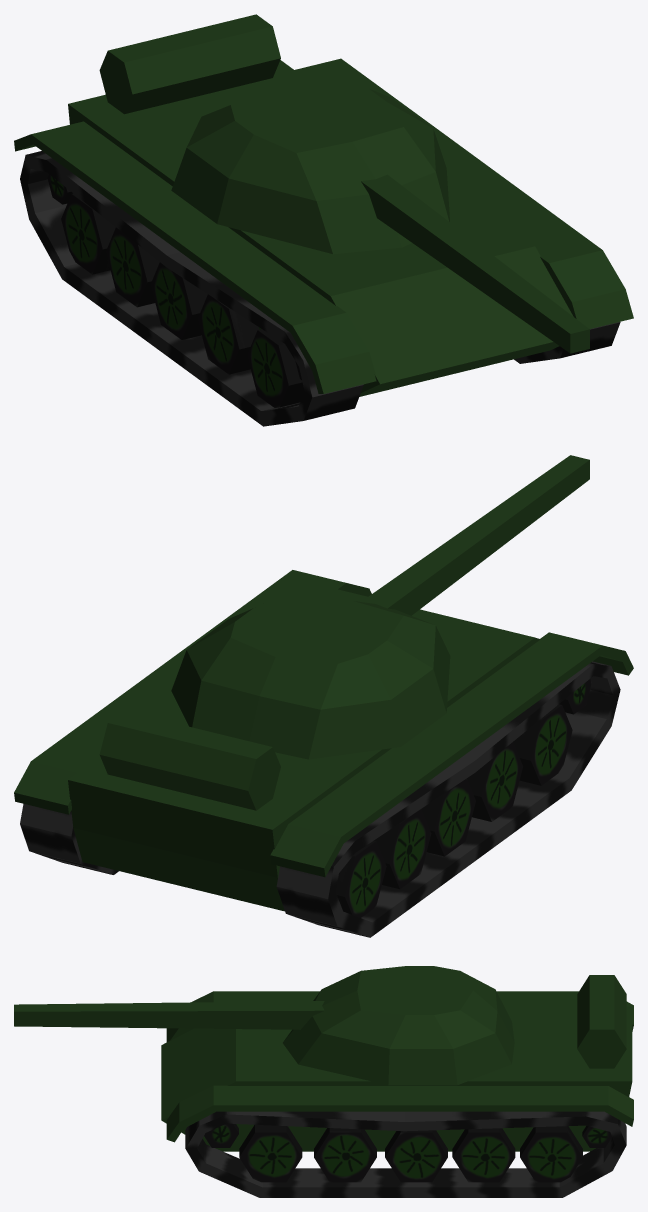
3 renders of one model, top to bottom at view 1: azimuth 30°, elevation 25°; view 2: azimuth 150°, elevation 25°; view 3: azimuth 270°, elevation 25°, orthographic. The views are drawn at different scales.
Visible parts, largest first — view 1: body, canon, chain; view 2: body, canon, chain; view 3: body, chain, canon.
Boxes of the visible parts, x1,y1,x2,y2 form: body: (14,14,633,396); canon: (171,78,589,353); chain: (20,151,620,426); body: (14,570,633,911); canon: (171,455,589,759); chain: (20,661,620,937); body: (161,975,633,1151); chain: (185,1111,626,1197); canon: (14,966,514,1085).
Size of the model in its own units: 791 by 486 by 1814.
